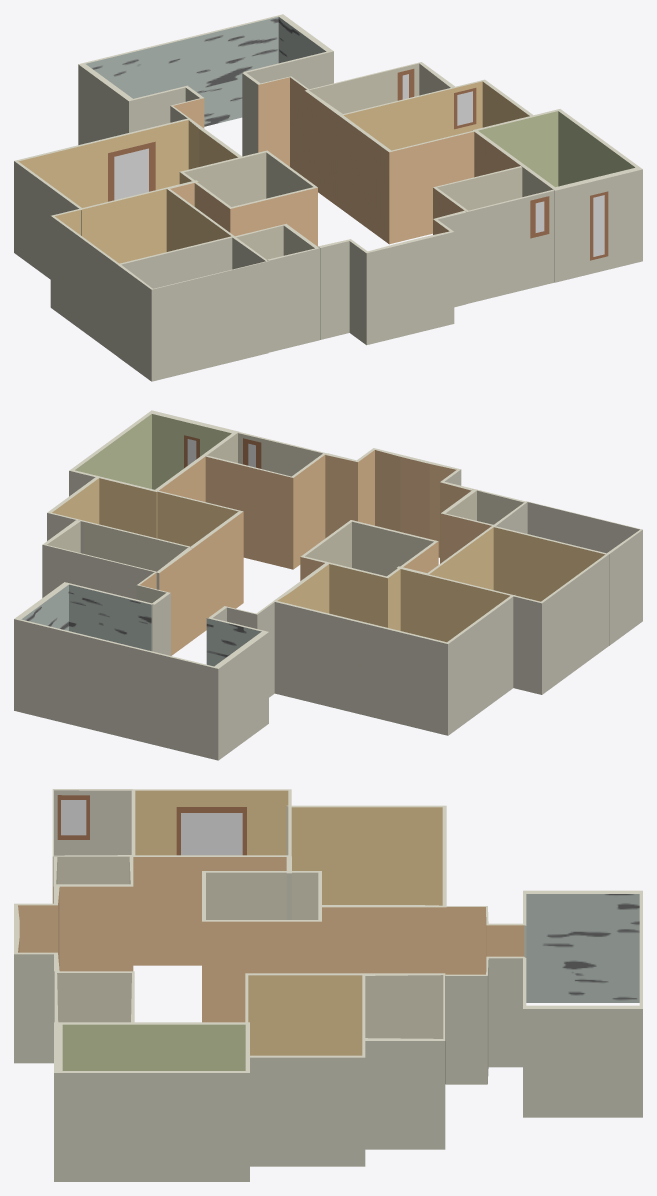
The model's file is N6_Paredes.fbx.
3 views of the same model, one above another, from view 1: azimuth 30°, elevation 25°; view 2: azimuth 150°, elevation 25°; view 3: azimuth 270°, elevation 25° (orthographic). The views are drawn at different scales.
Visible parts, largest first — view 1: N6_Paredes; view 2: N6_Paredes; view 3: N6_Paredes.
Boxes of the visible parts, x1=… form: N6_Paredes: x1=14, y1=14, x2=642, y2=381; N6_Paredes: x1=14, y1=410, x2=642, y2=760; N6_Paredes: x1=14, y1=789, x2=642, y2=1181.
Size of the model in its own units: 1680 by 300 by 1573.
Materials: 8 (8 with a texture image).
